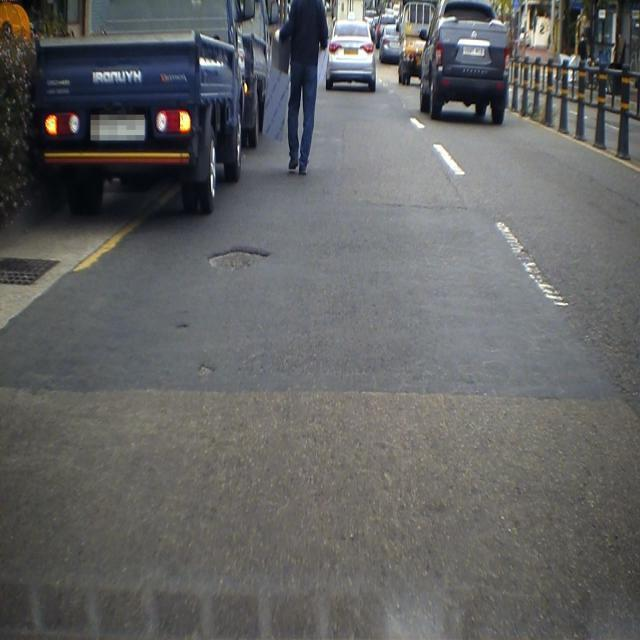pothole: (206, 239, 275, 274), (195, 354, 215, 384)
